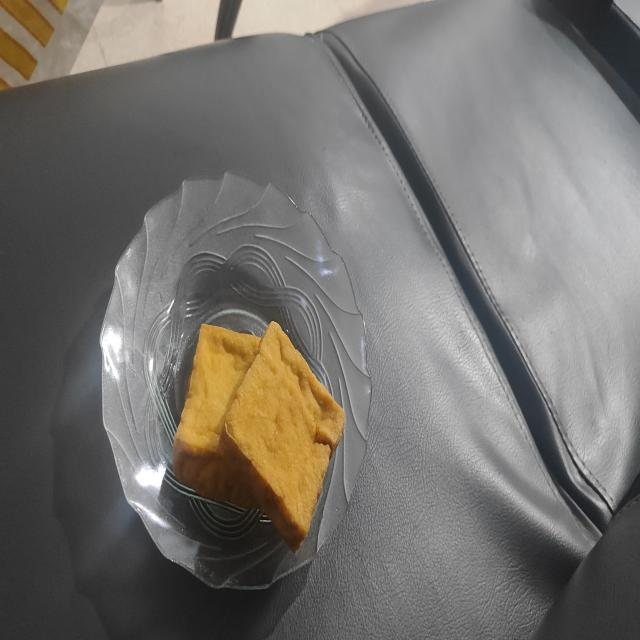tahu_goreng: (219, 321, 345, 552), (173, 324, 261, 509)
